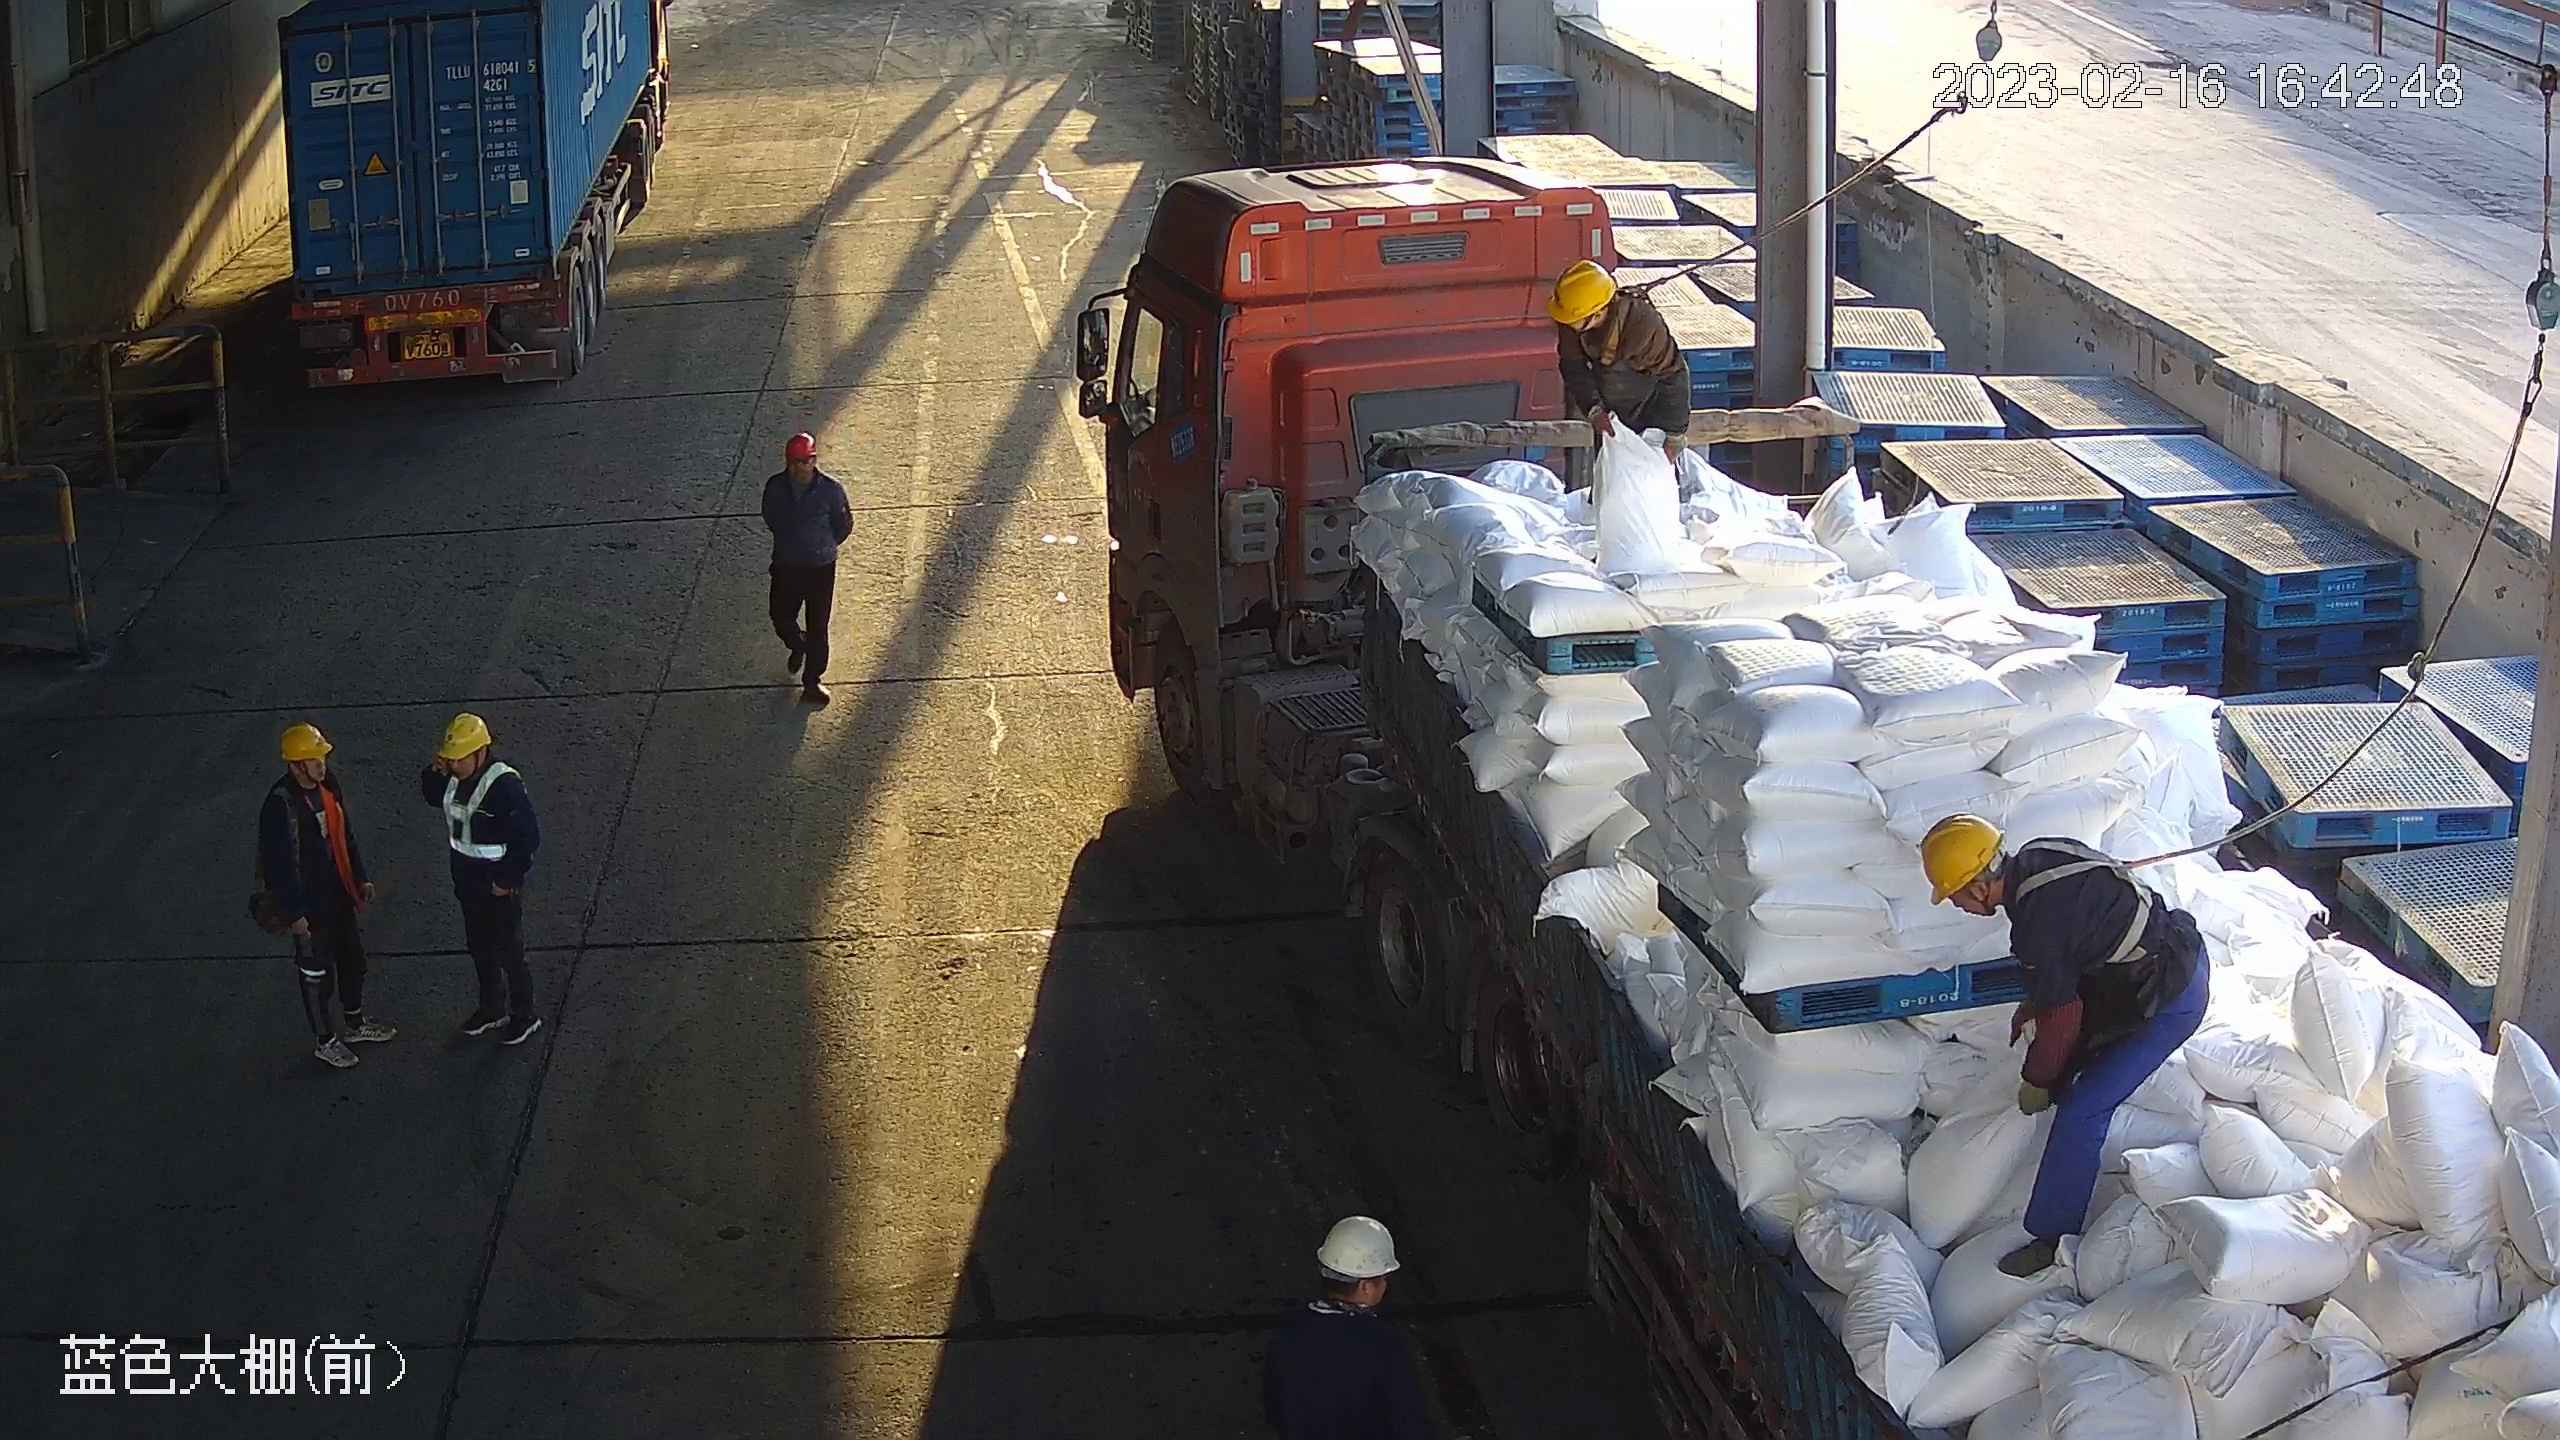belt: (2006, 826, 2177, 974)
head: (1927, 811, 2115, 971), (1261, 1218, 1429, 1384), (1547, 261, 1661, 364), (254, 718, 350, 830), (423, 715, 525, 815), (762, 435, 849, 509)
helmet: (1922, 813, 2006, 910), (1318, 1213, 1406, 1278), (1577, 303, 1643, 377), (1552, 259, 1618, 320), (436, 713, 491, 758), (277, 723, 336, 762), (785, 431, 821, 463)
people: (1922, 817, 2217, 1284), (253, 719, 400, 1068), (416, 711, 553, 1046), (760, 432, 855, 706), (1552, 264, 1696, 433)
truck: (1066, 152, 2560, 1440), (267, 1, 679, 394)
